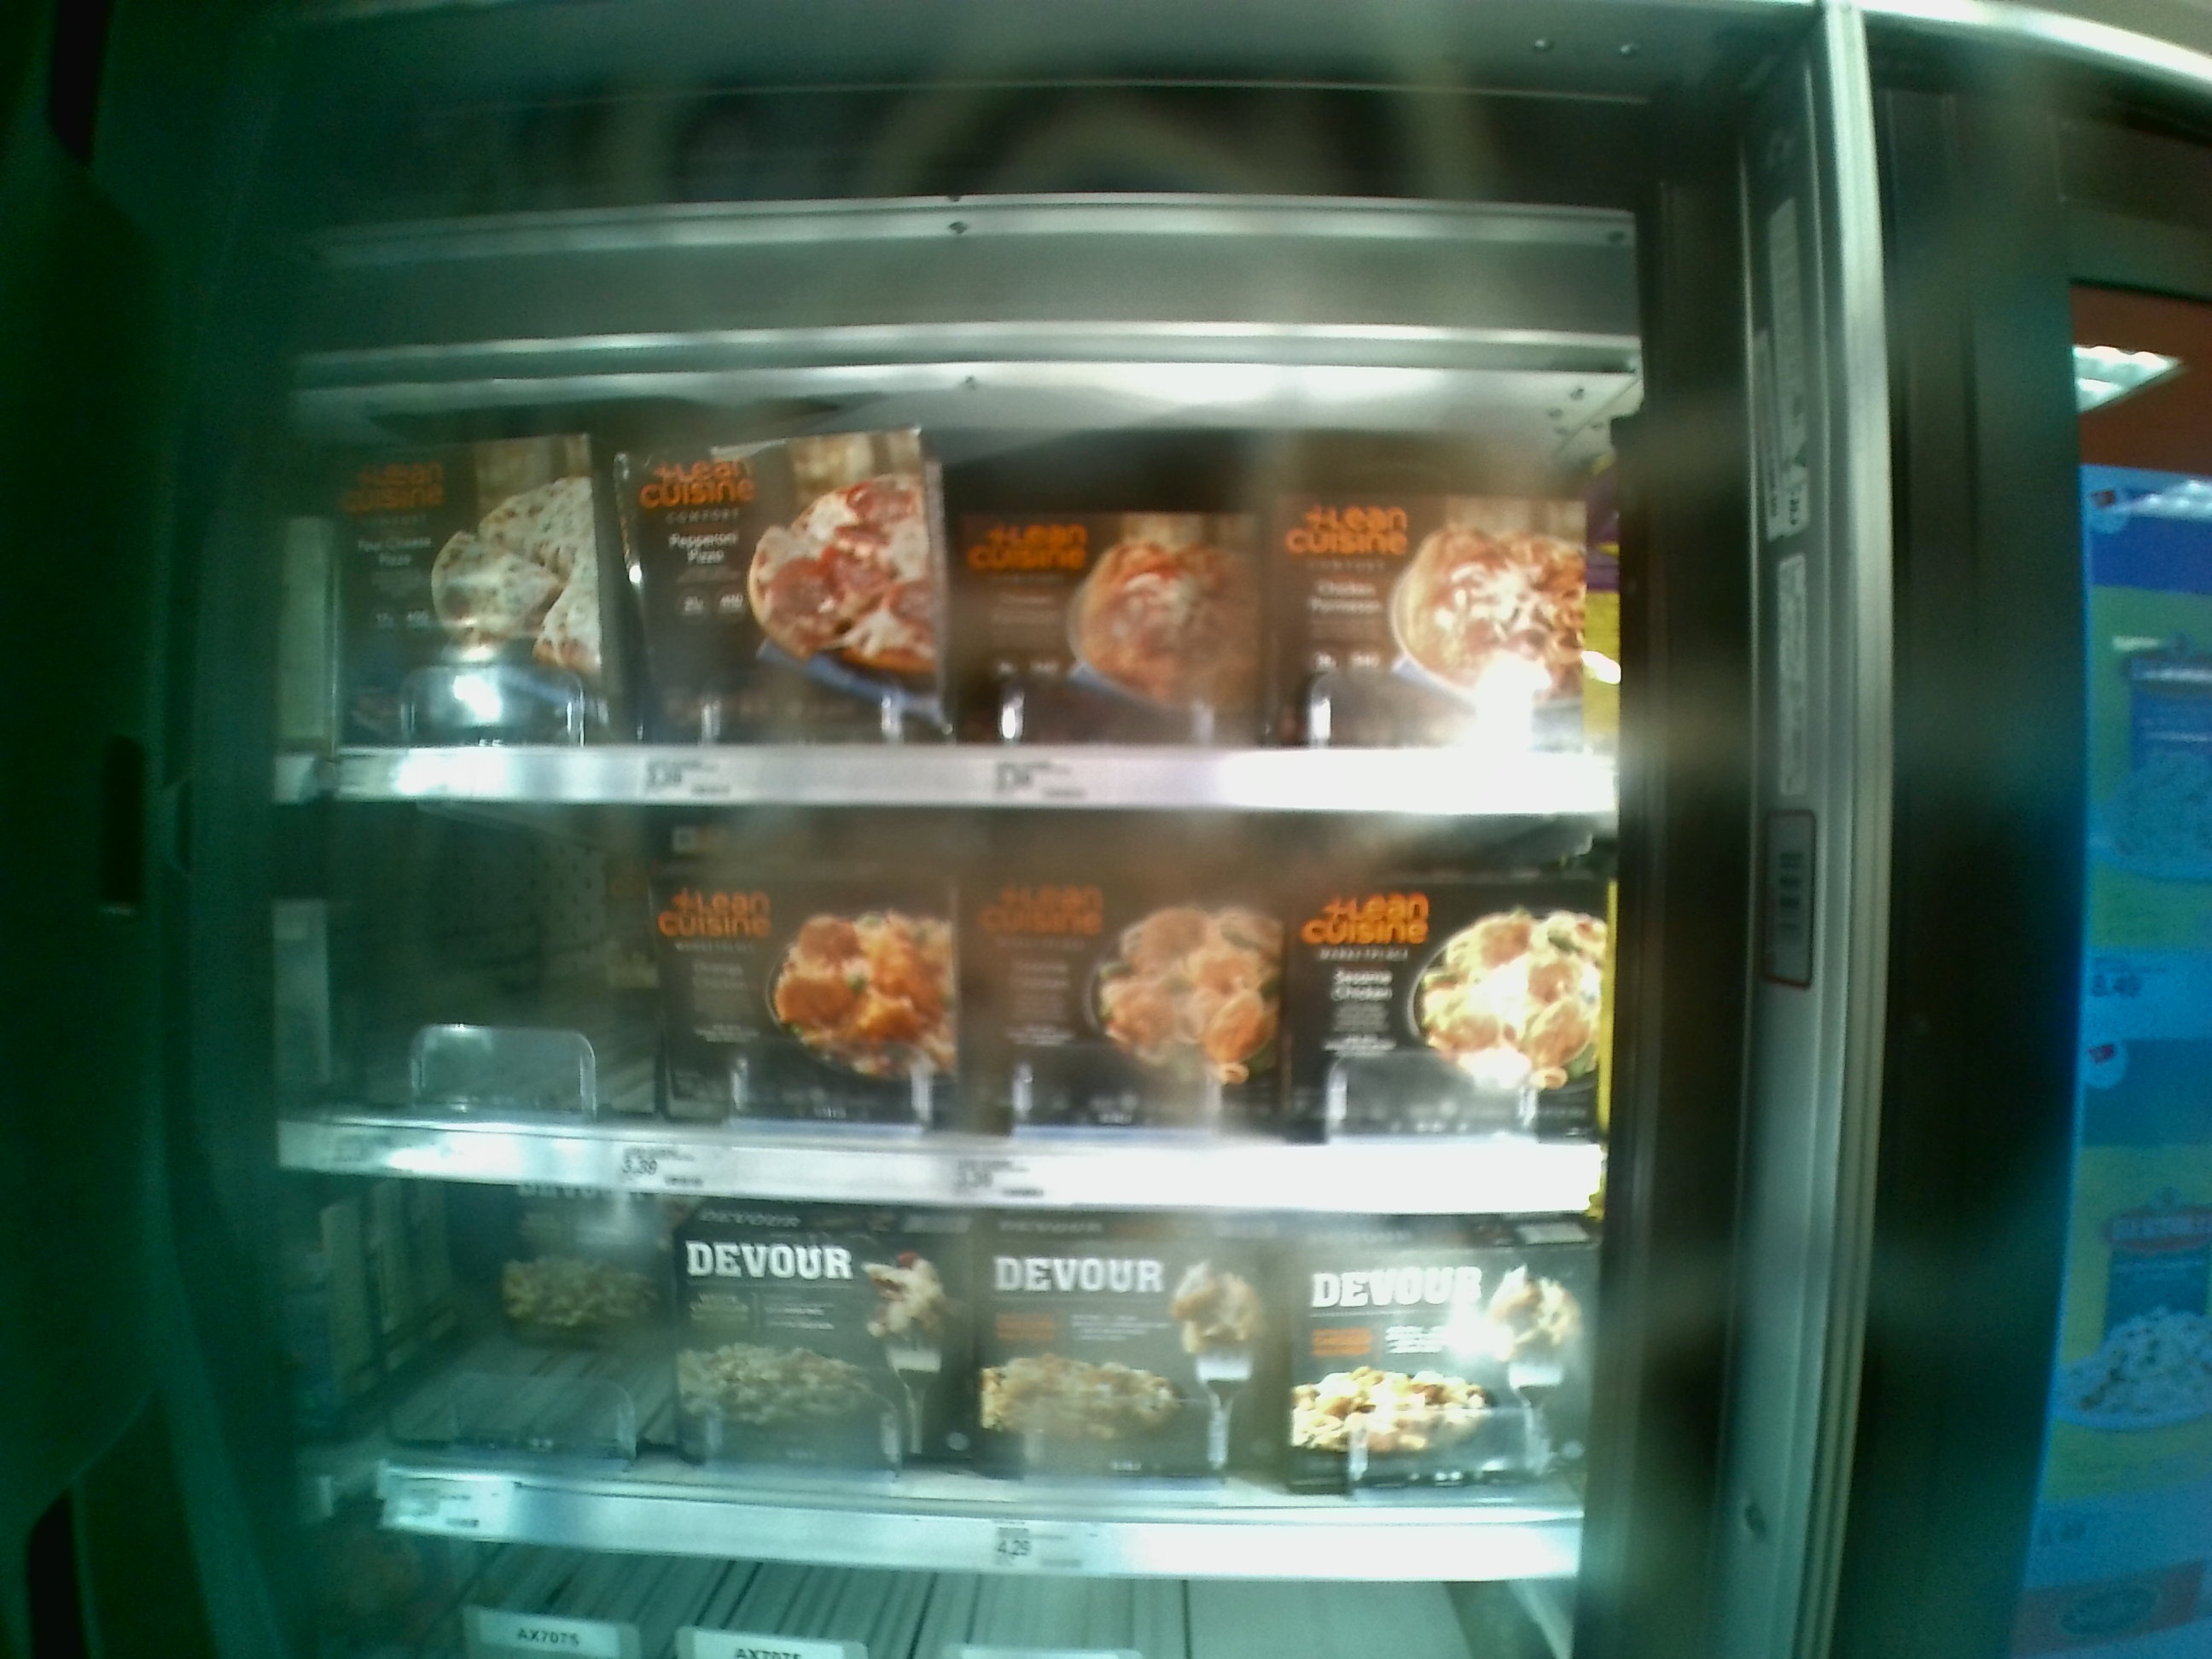shelf: (315, 347, 1618, 819), (289, 798, 1601, 1215), (301, 1178, 1587, 1579)
